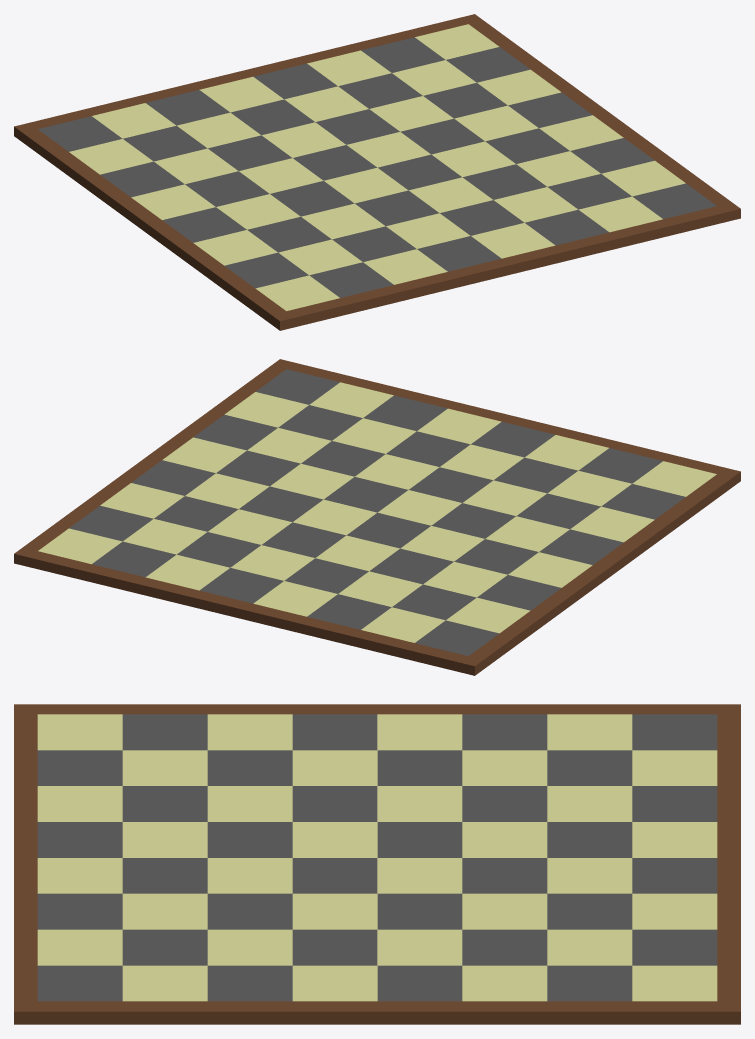
The model's file is Board.fbx.
The picture shows the model from 3 angles, top to bottom: view 1: azimuth 30°, elevation 25°; view 2: azimuth 150°, elevation 25°; view 3: azimuth 270°, elevation 25°; orthographic projection. The views are drawn at different scales.
Parts seen in each view (by area): view 1: Board; view 2: Board; view 3: Board.
Boxes of the visible parts, x1,y1,x2,y2 form: Board: (14, 14, 740, 330); Board: (14, 359, 740, 675); Board: (14, 704, 740, 1024).
Size of the model in its own units: 2000 by 40 by 2000.
